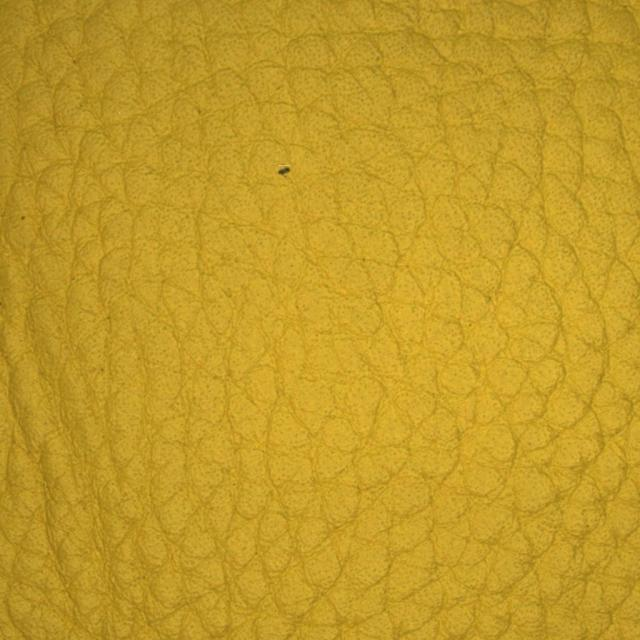pinhole: (190, 116, 370, 218)
